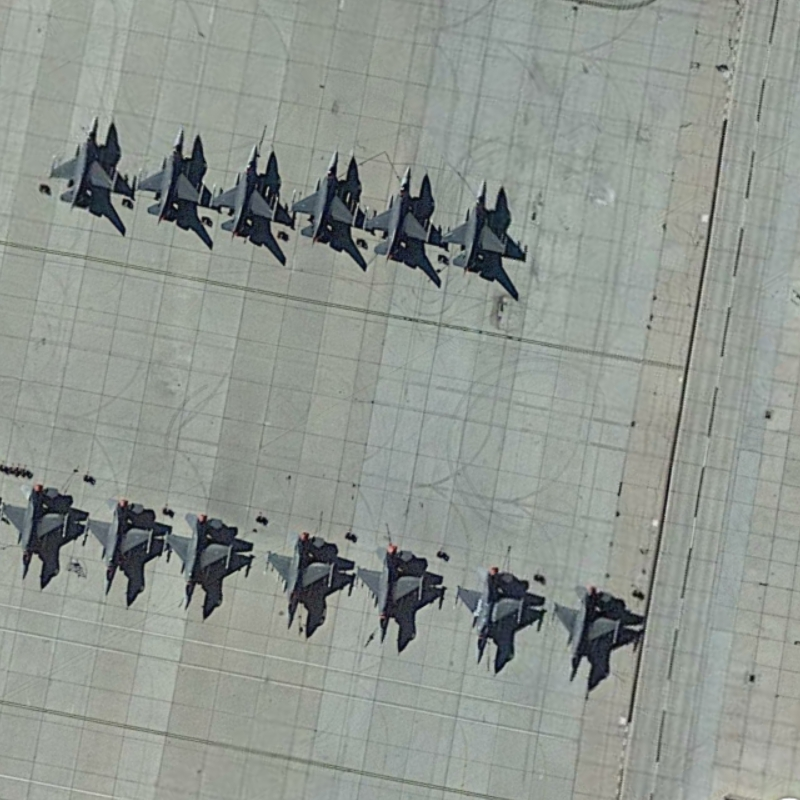A5: (351, 532, 441, 657), (446, 551, 537, 672), (547, 577, 636, 692), (259, 519, 341, 641), (76, 491, 160, 603), (160, 502, 244, 613), (42, 108, 125, 220), (288, 141, 368, 253), (203, 139, 285, 246), (360, 161, 439, 272), (437, 177, 517, 283), (132, 121, 210, 229), (3, 473, 76, 583)
